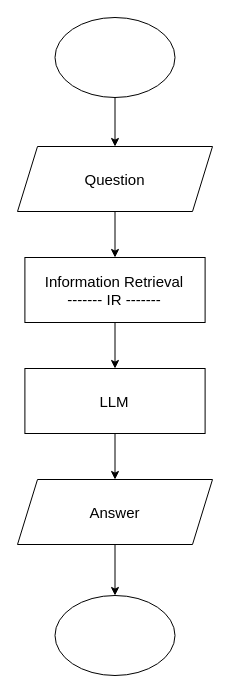
This 230x693 diagram has some shape labels left out. Each missing label, with the box of its shape:
Begin: (54, 16, 175, 98)
End: (54, 594, 175, 676)
